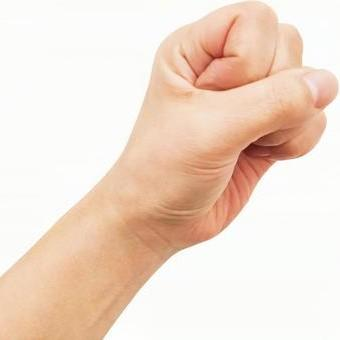gu-: (134, 0, 340, 242)
